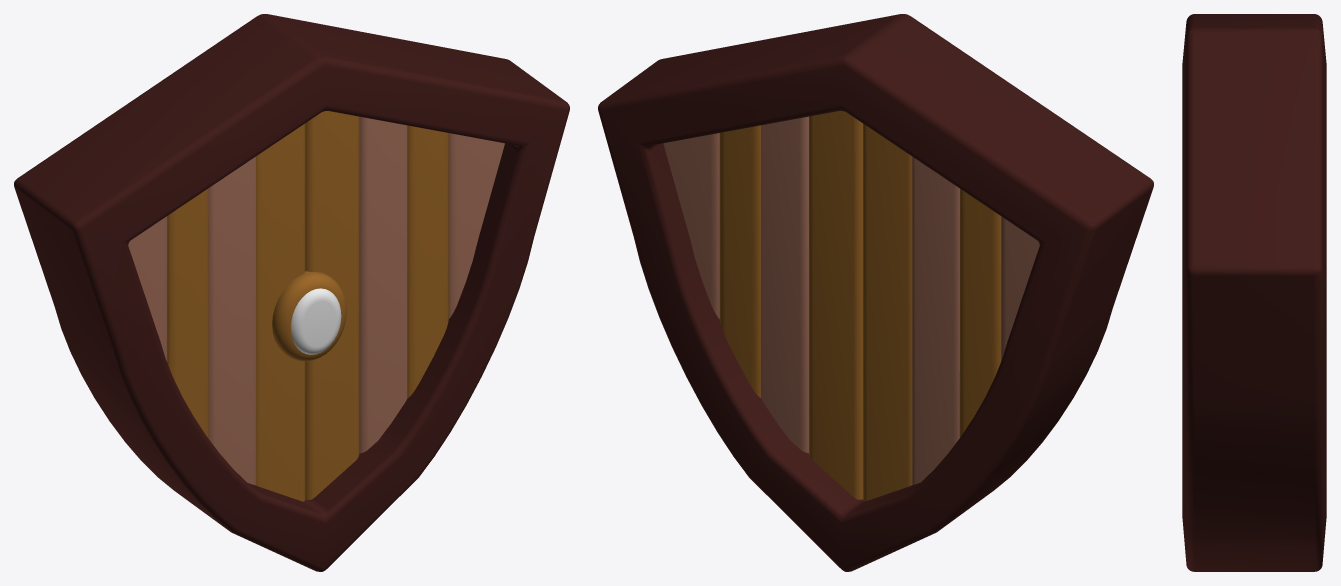
The model's file is Shield.fbx.
The picture shows the model from 3 angles, left to right: view 1: azimuth 30°, elevation 25°; view 2: azimuth 150°, elevation 25°; view 3: azimuth 270°, elevation 25°; orthographic projection. The views are drawn at different scales.
Parts seen in each view (by area): view 1: Cube.001, Cube.006, Cube.005, Cube.004, Cube.003, Cube.002, Cube.008, Cube.007, Cube.009, Cylinder.002, Cylinder.001; view 2: Cube.001, Cube.006, Cube.005, Cube.004, Cube.003, Cube.002, Cube.008, Cube.007, Cube.009; view 3: Cube.001.
Boxes of the visible parts, x1,y1,x2,y2 form: Cube.001: (14, 14, 569, 571); Cube.006: (305, 111, 359, 499); Cube.005: (256, 123, 305, 501); Cube.004: (359, 117, 407, 453); Cube.003: (208, 156, 255, 485); Cube.002: (407, 125, 448, 398); Cube.008: (167, 188, 208, 438); Cube.007: (448, 133, 504, 318); Cube.009: (128, 216, 167, 362); Cylinder.002: (272, 271, 346, 361); Cylinder.001: (291, 288, 341, 354); Cube.001: (598, 14, 1153, 571); Cube.006: (809, 111, 862, 499); Cube.005: (863, 123, 912, 501); Cube.004: (761, 116, 808, 453); Cube.003: (912, 157, 959, 484); Cube.002: (719, 125, 760, 397); Cube.008: (959, 189, 1000, 437); Cube.007: (663, 133, 719, 318); Cube.009: (1001, 216, 1039, 361); Cube.001: (1182, 14, 1326, 571).
Bounding box in the file's own units: 141 × 140 × 33.77.
